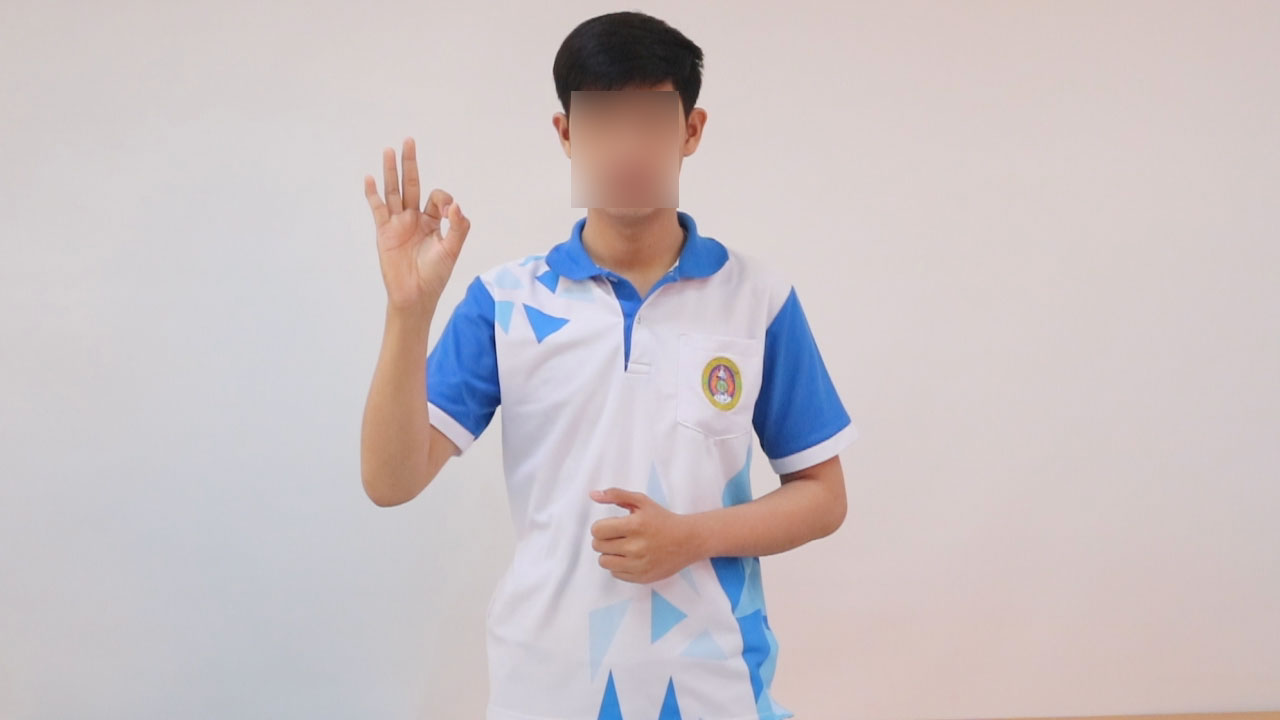for: (357, 123, 478, 334)
